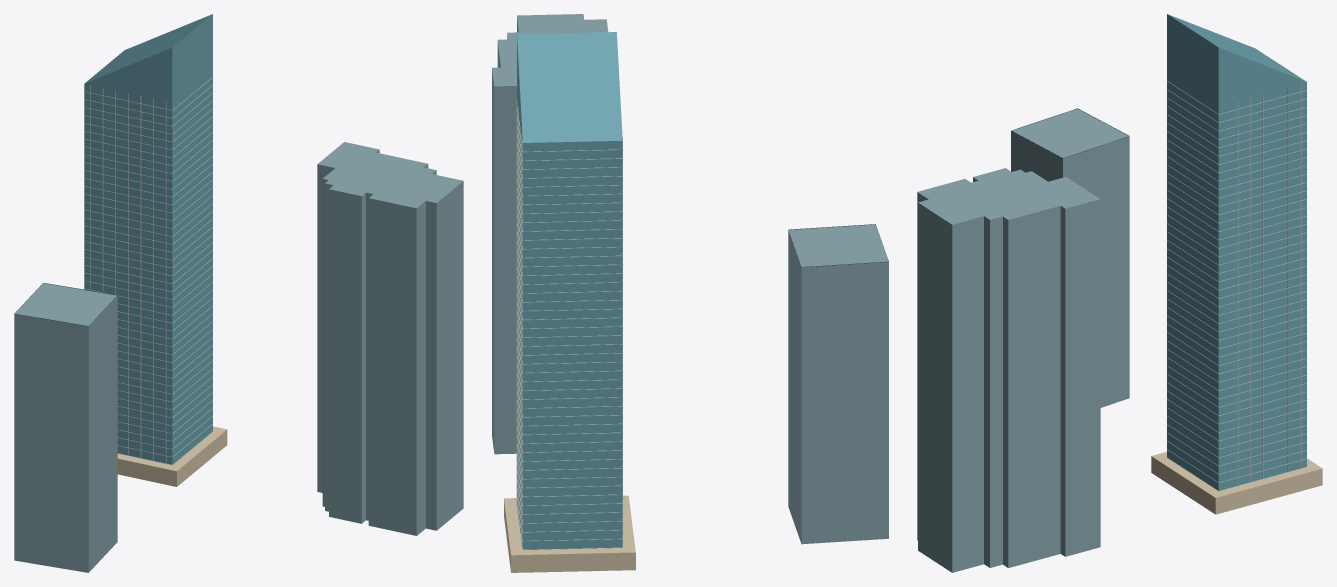
File: city_4_1.glb
3 views of the same model, side by side, from view 1: azimuth 30°, elevation 25°; view 2: azimuth 150°, elevation 25°; view 3: azimuth 270°, elevation 25° (orthographic). The views are drawn at different scales.
Parts seen in each view (by area): view 1: city_4_1; view 2: city_4_1; view 3: city_4_1.
Boxes of the visible parts, left/top/right/bottom form: city_4_1: left=14, top=14, right=463, bottom=572; city_4_1: left=492, top=14, right=888, bottom=572; city_4_1: left=917, top=14, right=1322, bottom=572.
Size of the model in its own units: 254 by 269 by 215.
